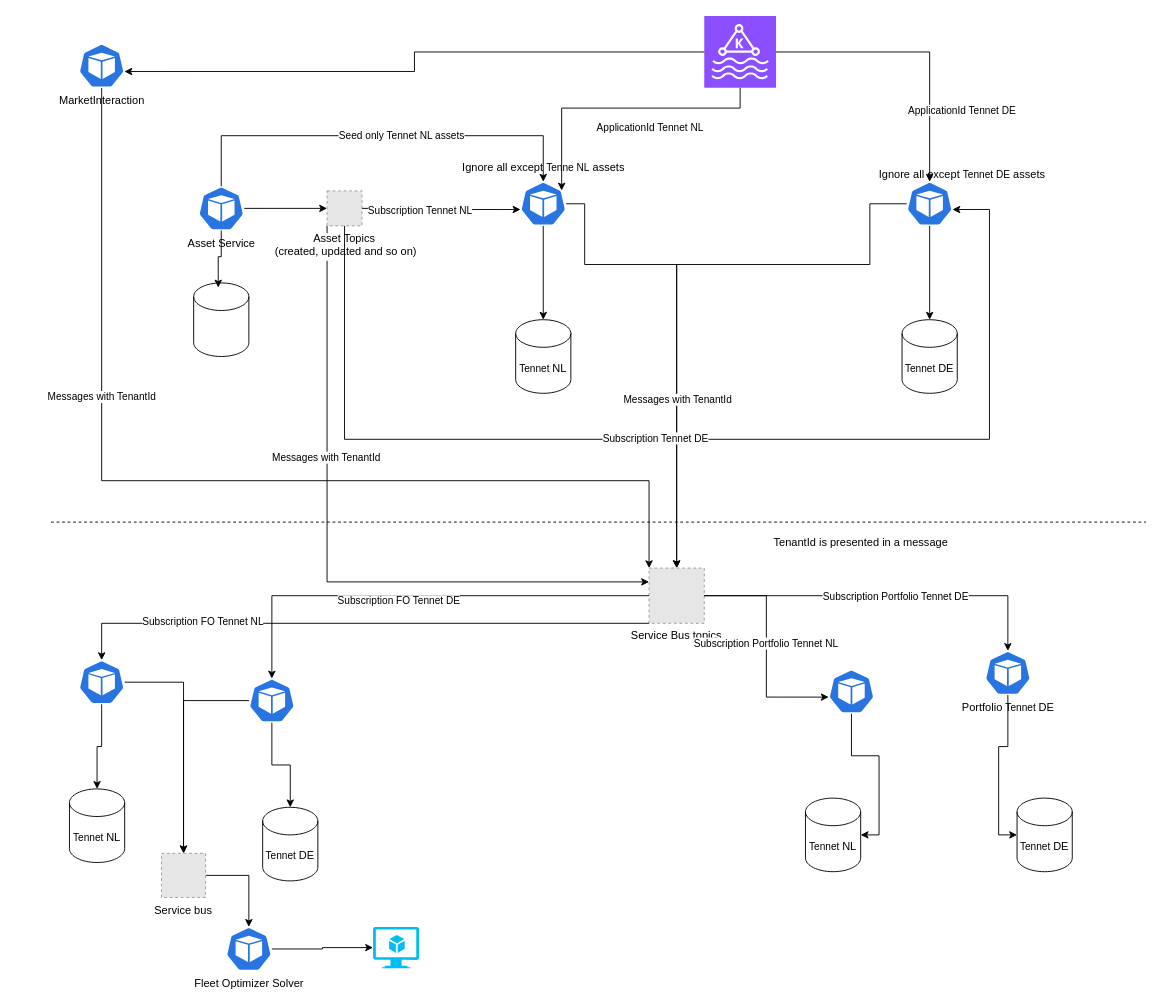
Image size: 1163x1006. Some labels were removed from this diagram. Grey dashed boxes stand in for pictures. The shapes that lost their labels are listed below. From the top down, each one's centre as x and y in pixels, then its label:
At pixel 542 203: "Asset Planning NL".
At pixel 929 203: "Asset Planning DE".
At pixel 221 319: "Shared DB".
At pixel 101 681: "Fleet Optimizer Gateway Tennet NL".
At pixel 271 700: "Fleet Optimizer Gateway Tennet DE".
At pixel 851 690: "Portfolio Tennet NL".
At pixel 396 947: "Token Server".
